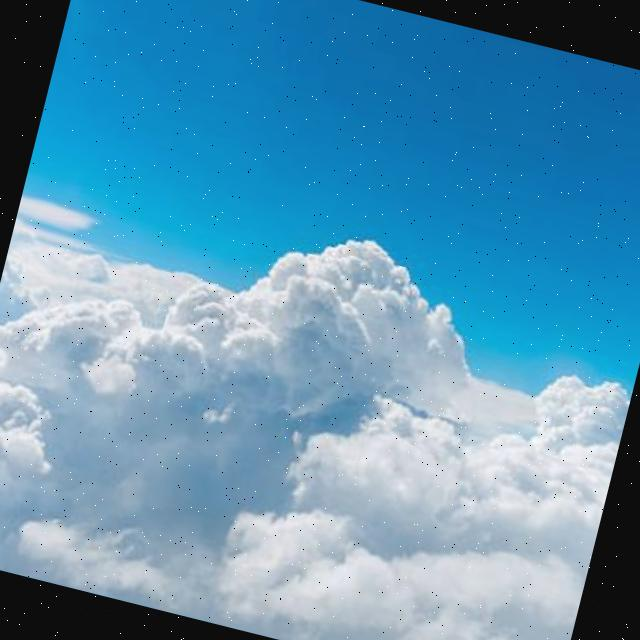Cu: (1, 131, 640, 622)
